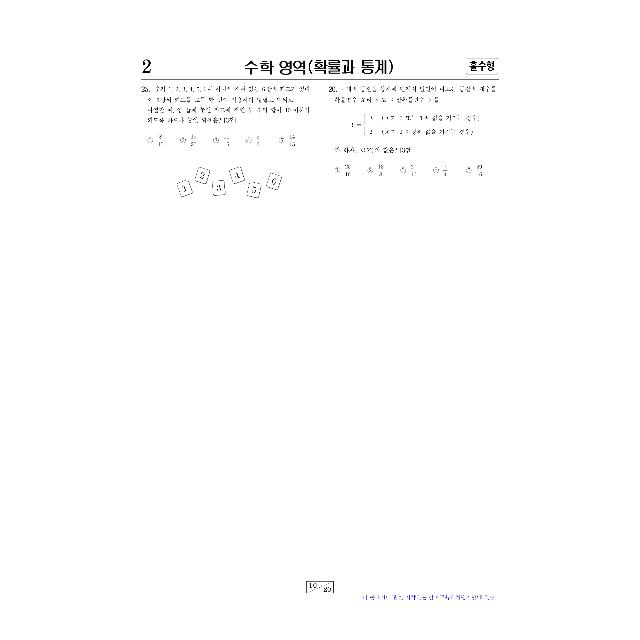multiple: (138, 81, 314, 202), (326, 82, 502, 186)
